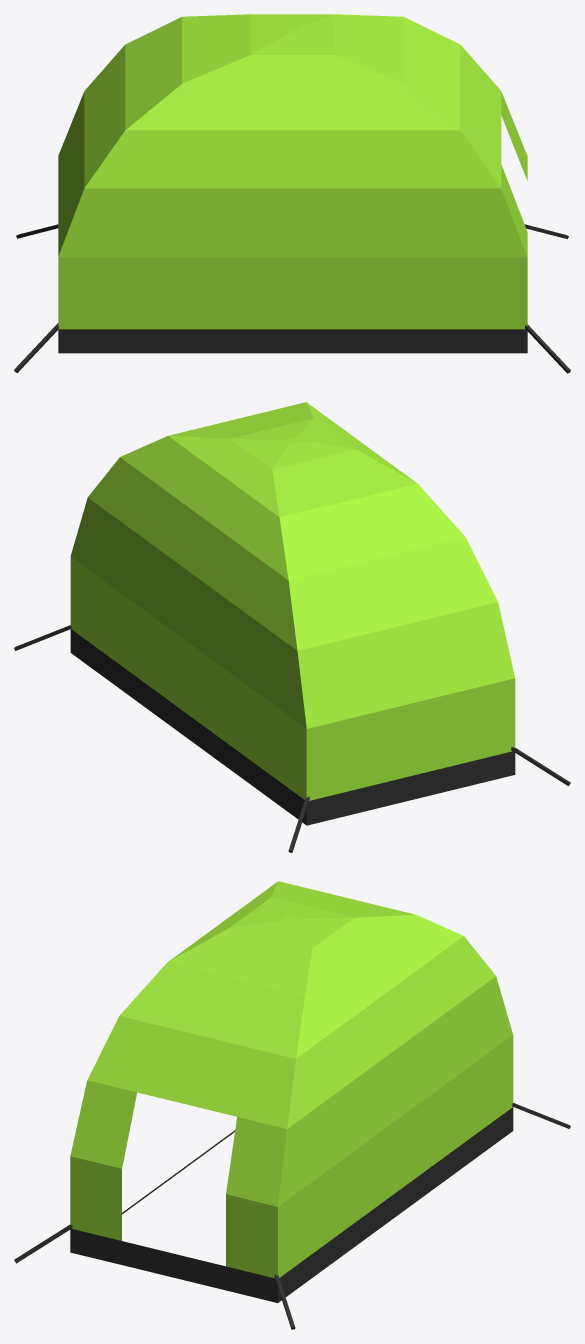
File: 8760c7a0-3c73-4de1-8617-397c16ded0e5.glb
The picture shows the model from 3 angles, top to bottom: view 1: azimuth 30°, elevation 25°; view 2: azimuth 150°, elevation 25°; view 3: azimuth 270°, elevation 25°; orthographic projection.
Visible parts, largest first — view 1: Box001; view 2: Box001; view 3: Box001.
Boxes of the visible parts, x1,y1,x2,y2 form: Box001: (58, 14, 527, 353); Box001: (70, 402, 515, 825); Box001: (70, 881, 513, 1302).
Size of the model in its own units: 2513512 by 1193981 by 2185492.
